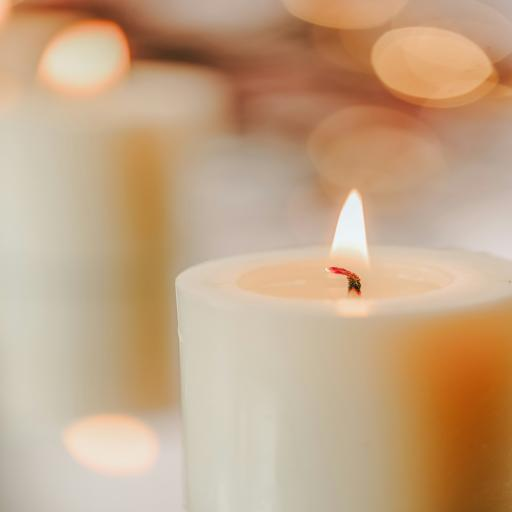candlelight: (178, 181, 508, 507), (324, 185, 372, 305)
